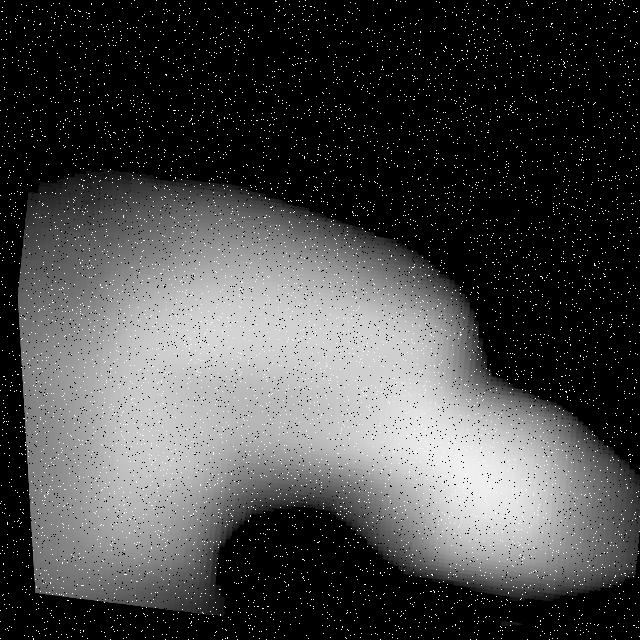person: (9, 149, 640, 640)
